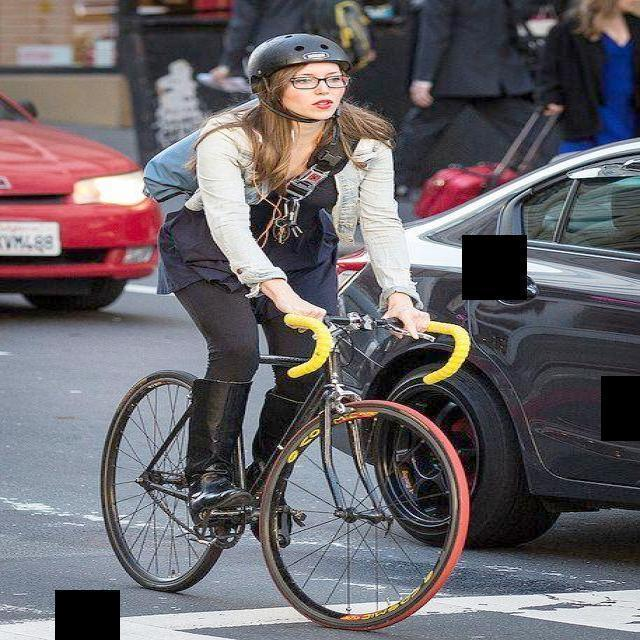helmet: (246, 36, 352, 128)
